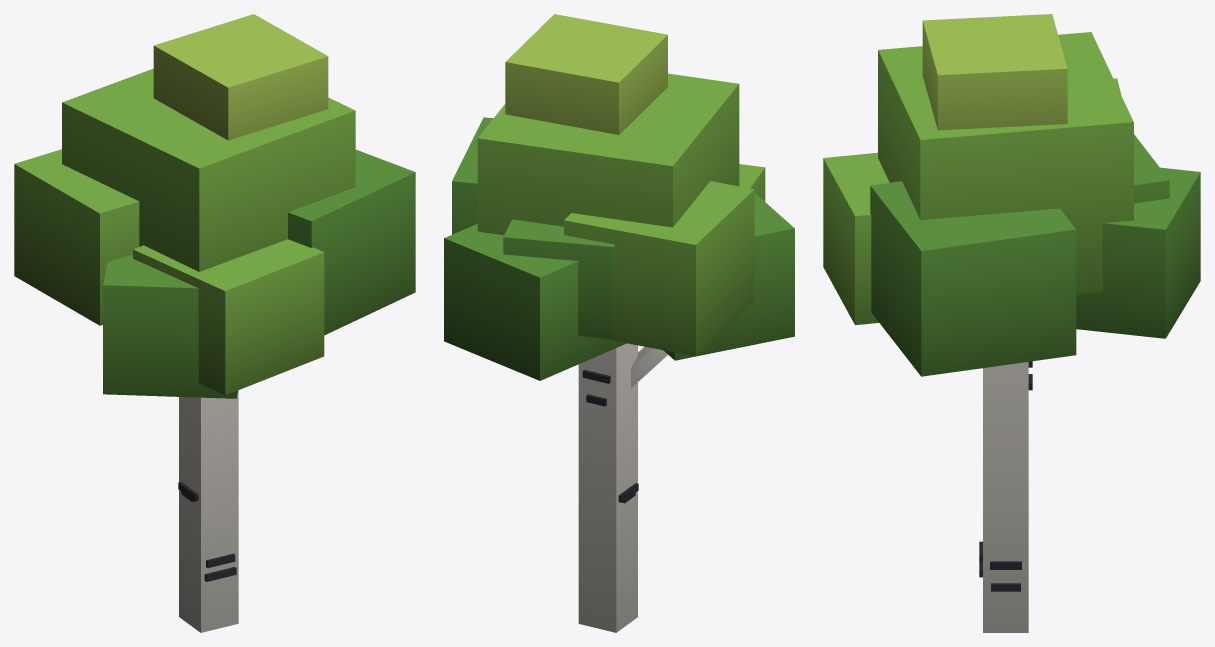
The model's file is A05_birch_small.glb.
3 renders of one model, left to right at view 1: azimuth 30°, elevation 25°; view 2: azimuth 150°, elevation 25°; view 3: azimuth 270°, elevation 25°, orthographic. The views are drawn at different scales.
Parts seen in each view (by area): view 1: A05_birch_small; view 2: A05_birch_small; view 3: A05_birch_small.
Part boxes in pixels (<box>): A05_birch_small: <box>14,14,415,632</box>; A05_birch_small: <box>444,14,794,632</box>; A05_birch_small: <box>823,14,1200,632</box>.
Bounding box in the file's own units: 3.48 × 6.01 × 3.47.
